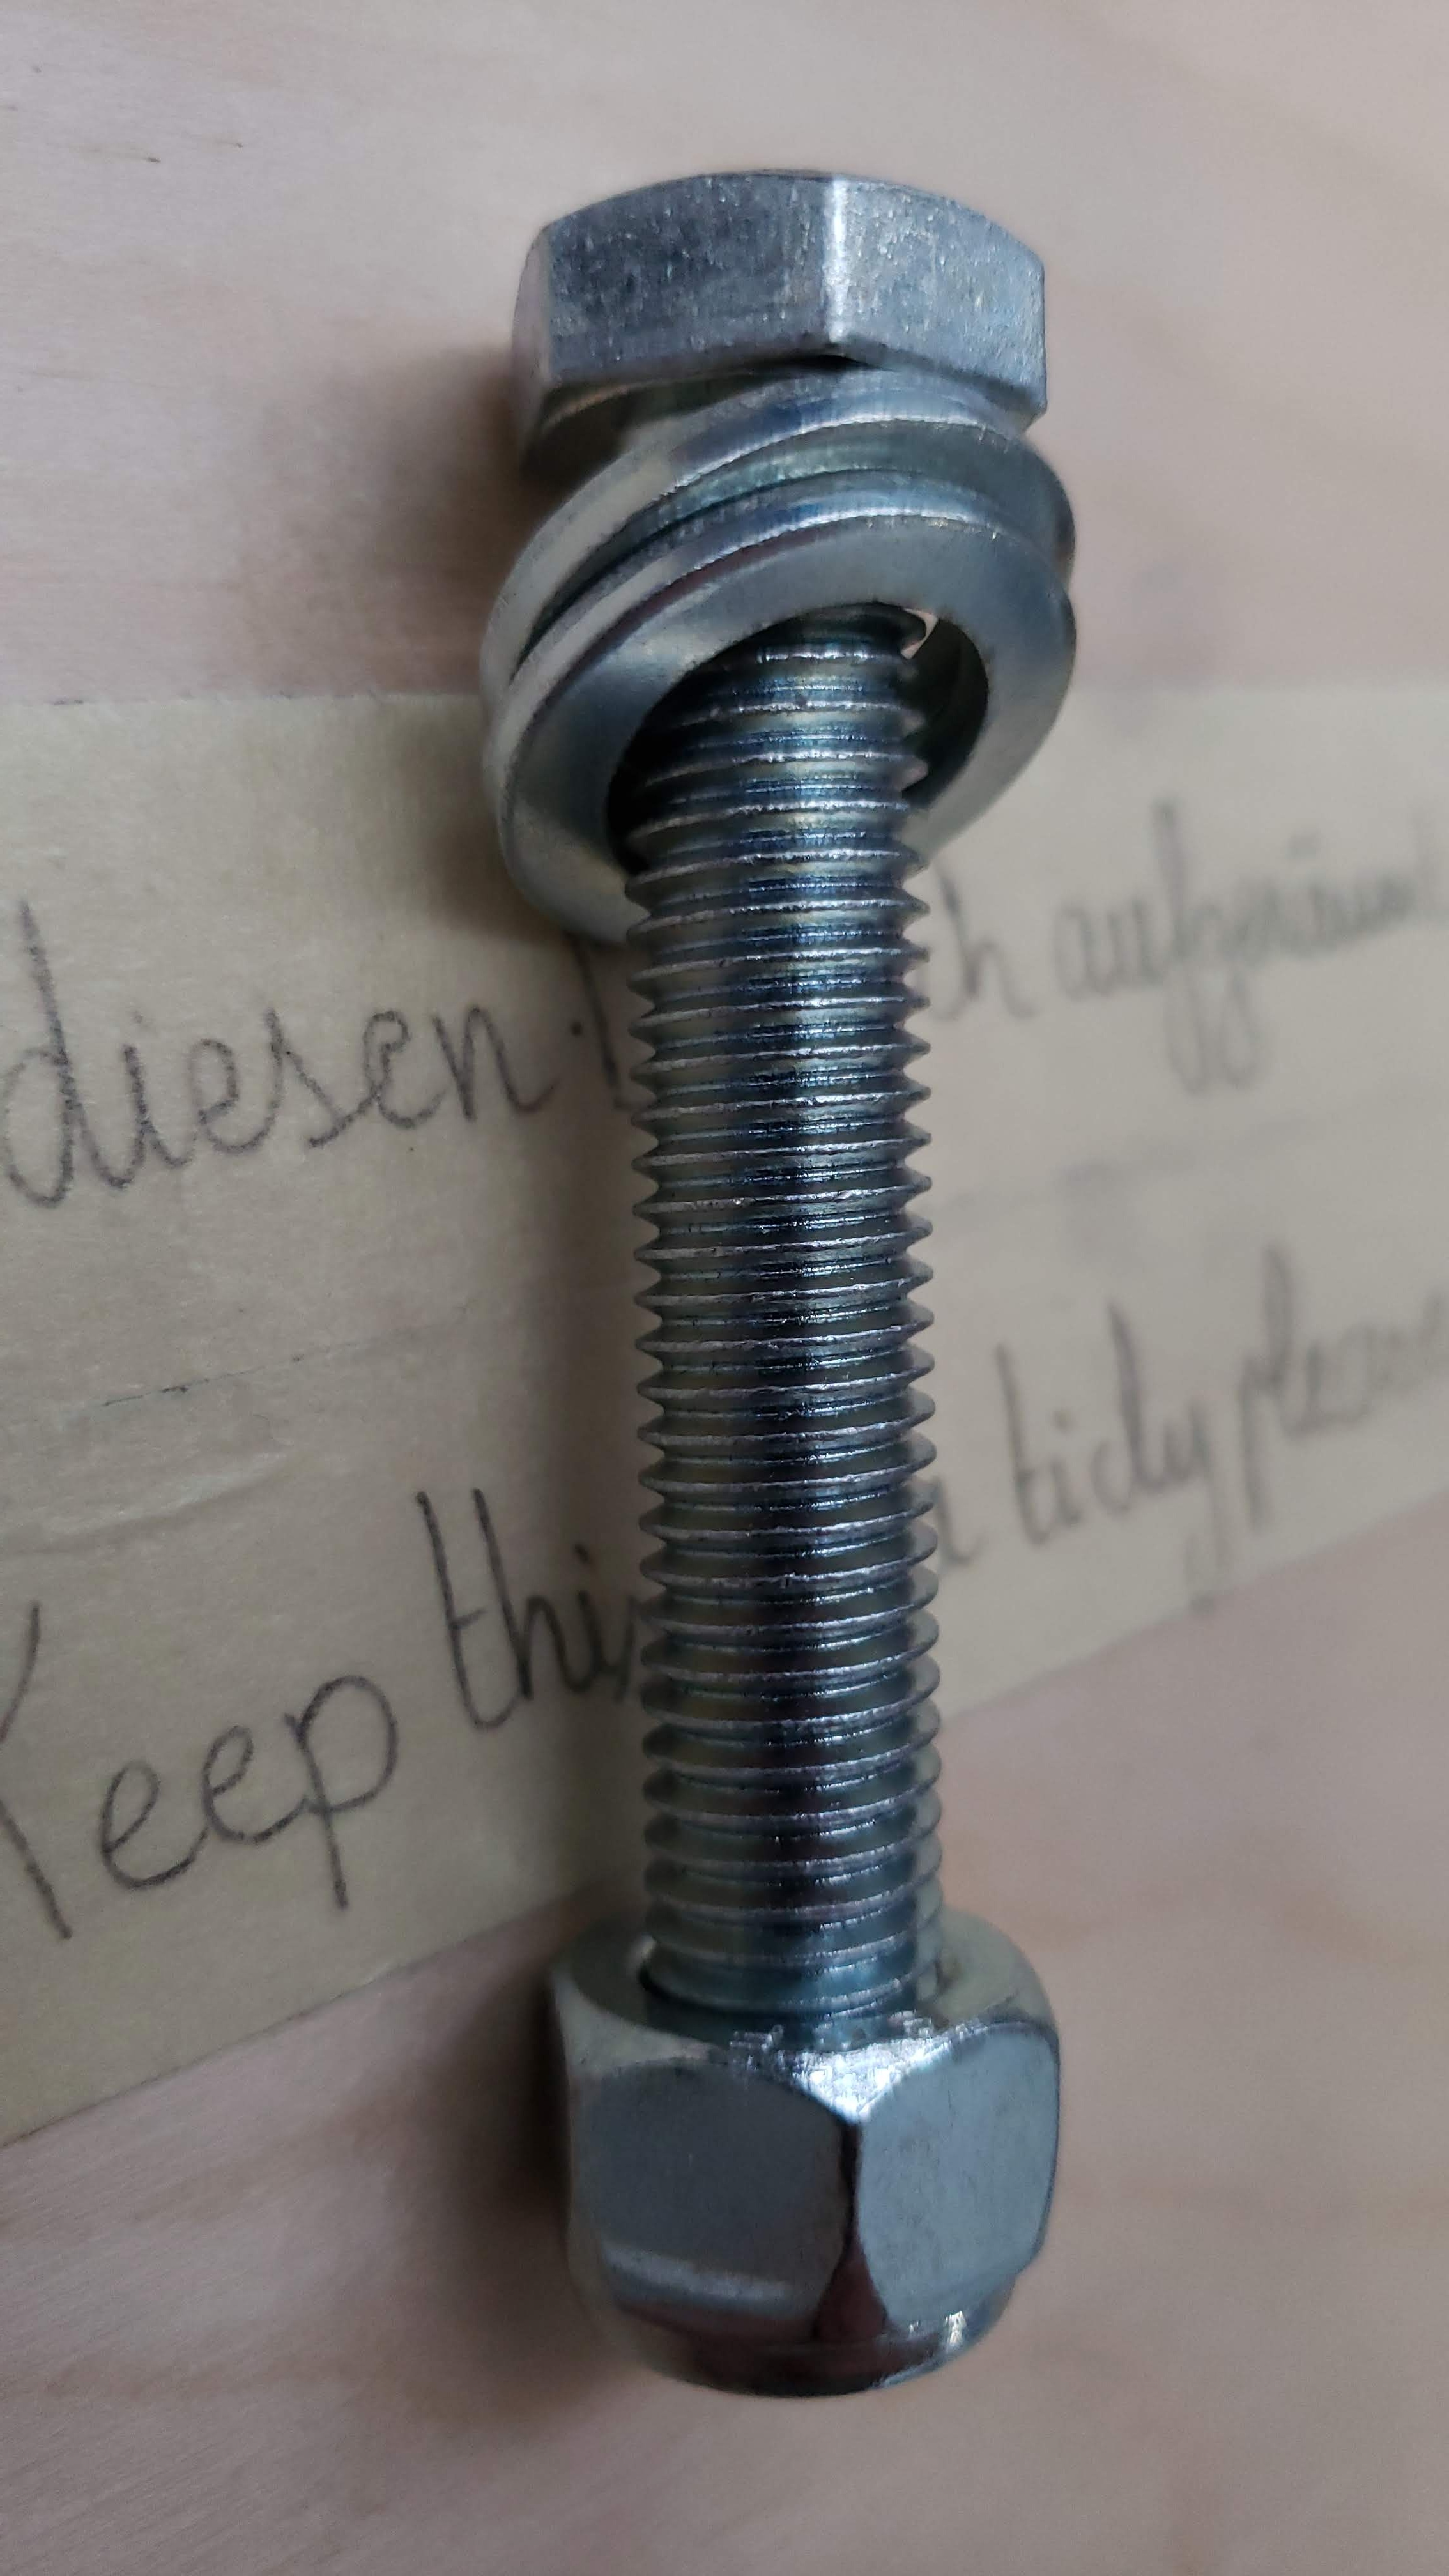FinishedAssembly: (423, 81, 1210, 2516)
